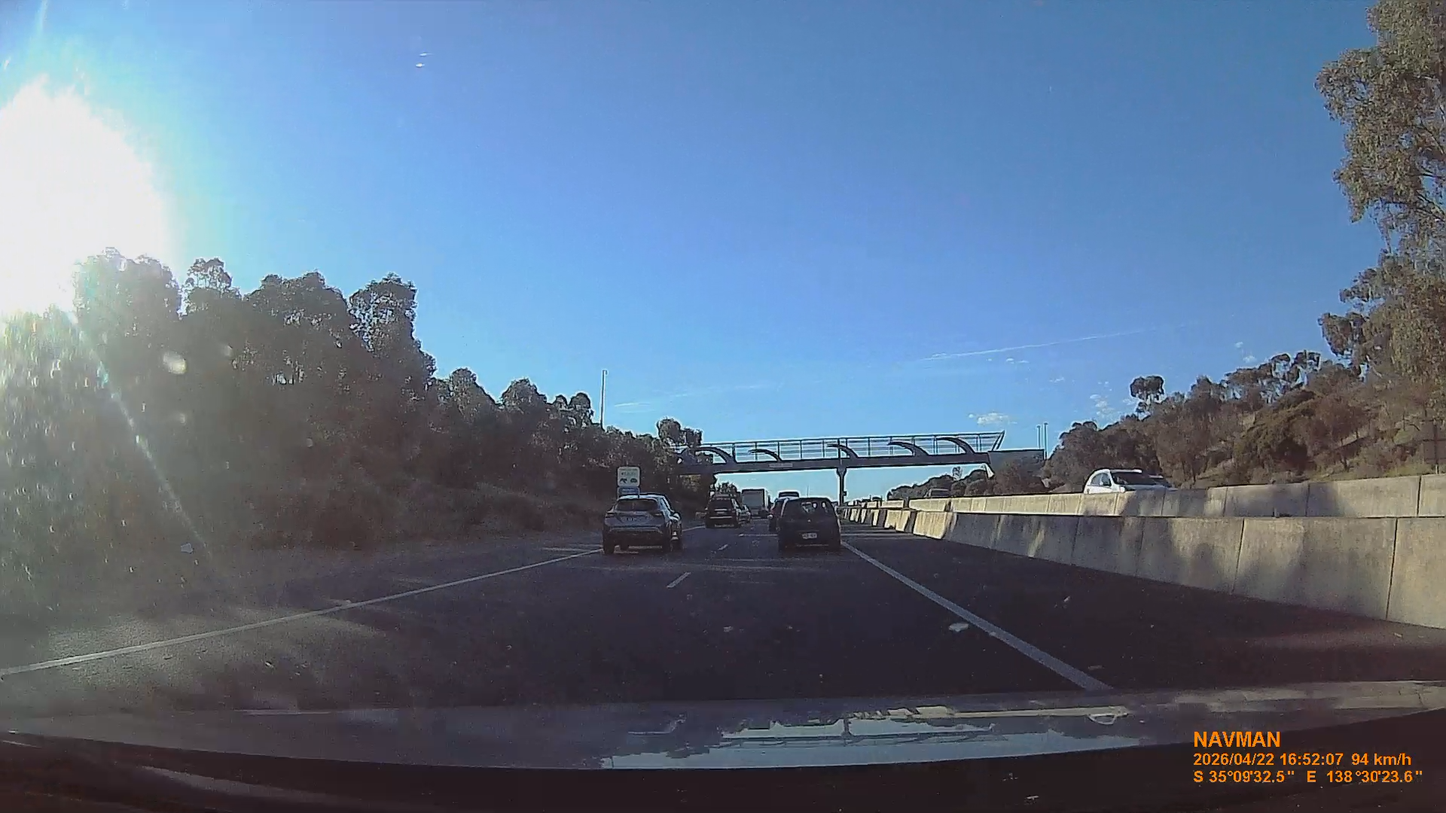road barriers: (859, 475, 1445, 628)
